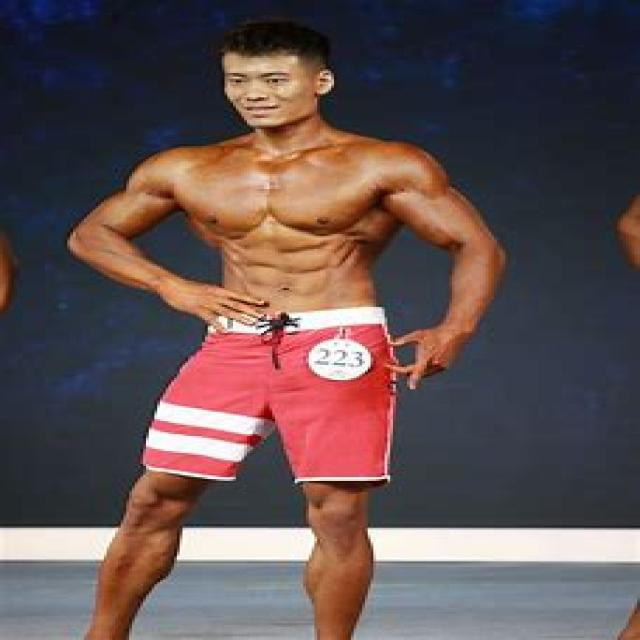stand: (113, 19, 426, 640)
